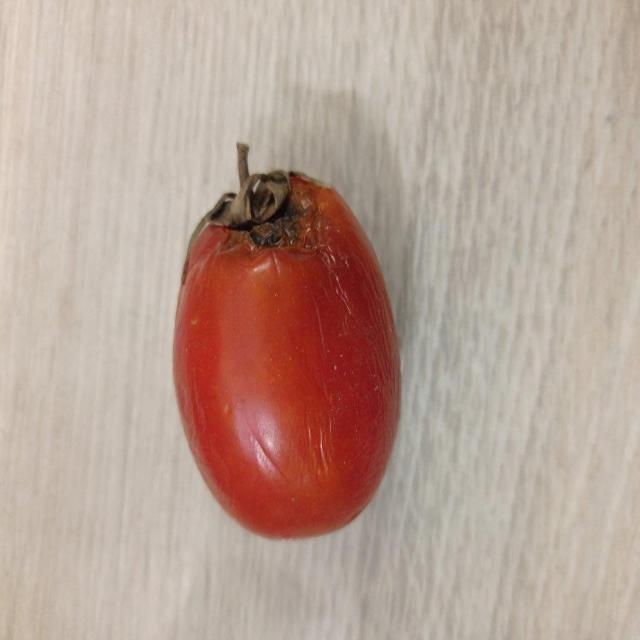overripe: (171, 137, 404, 543)
